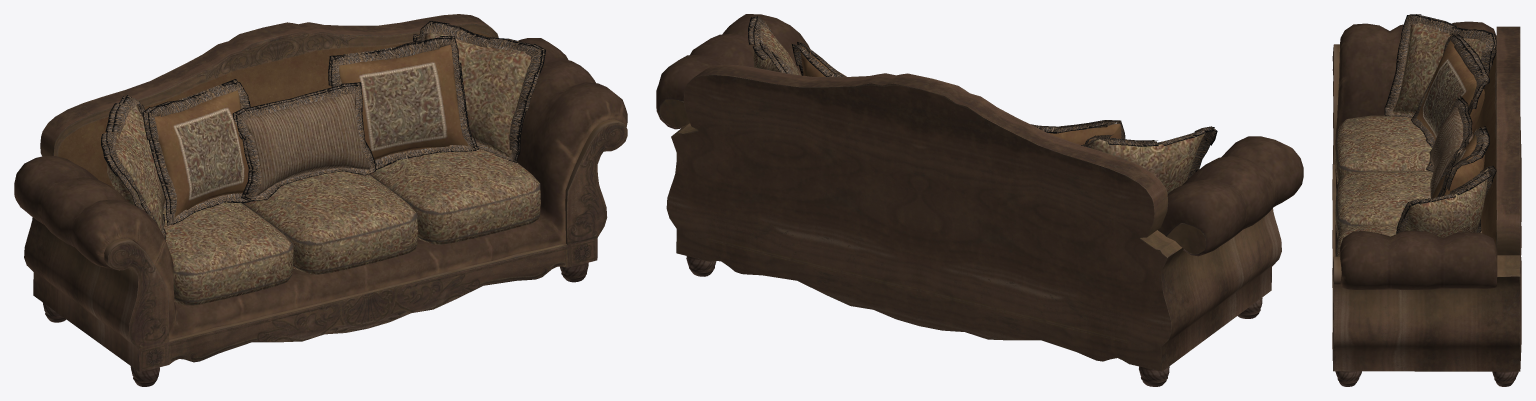
Rendered from sofa_02.glb.
3 views of the same model, side by side, from view 1: azimuth 30°, elevation 25°; view 2: azimuth 150°, elevation 25°; view 3: azimuth 270°, elevation 25° (orthographic). The views are drawn at different scales.
Visible parts, largest first — view 1: sofa_2; view 2: sofa_2; view 3: sofa_2.
Part boxes in pixels (bbox=[...]): sofa_2: bbox=[14, 14, 627, 386]; sofa_2: bbox=[656, 14, 1303, 386]; sofa_2: bbox=[1332, 14, 1521, 386].
Size of the model in its own units: 2.73 by 1.12 by 0.9251.
1 material, 1 textured.
